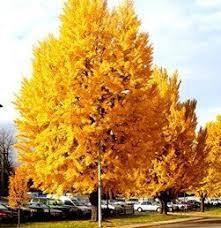tree: (19, 1, 188, 224), (134, 96, 201, 216)
